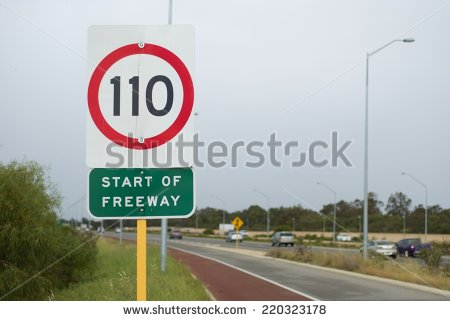Speed_limit_110km: (86, 43, 195, 150)
